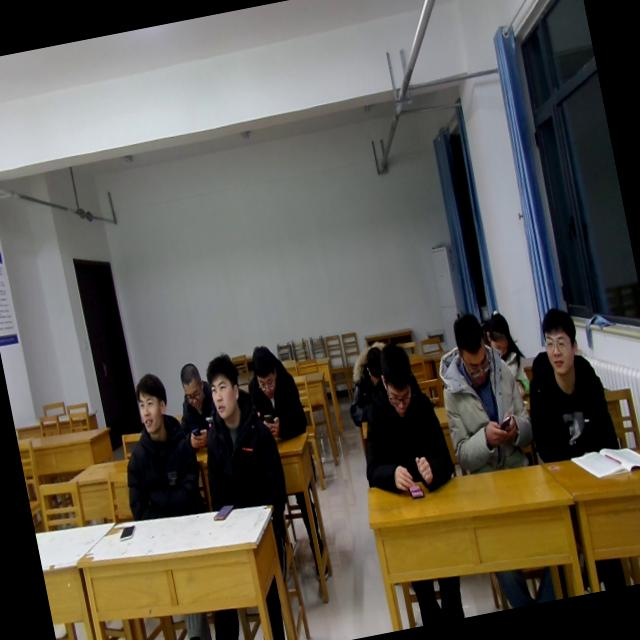bow: (240, 338, 310, 446), (336, 338, 403, 428), (169, 356, 227, 454)
down: (442, 302, 496, 384), (372, 340, 424, 425), (477, 299, 518, 362), (247, 342, 284, 402), (174, 357, 211, 413), (358, 340, 389, 384)
lookup: (197, 346, 247, 428), (533, 304, 586, 381), (129, 362, 174, 434)
sit: (427, 303, 542, 482), (342, 336, 459, 506), (508, 298, 622, 467), (181, 344, 291, 518), (104, 362, 210, 525), (474, 302, 533, 406)
